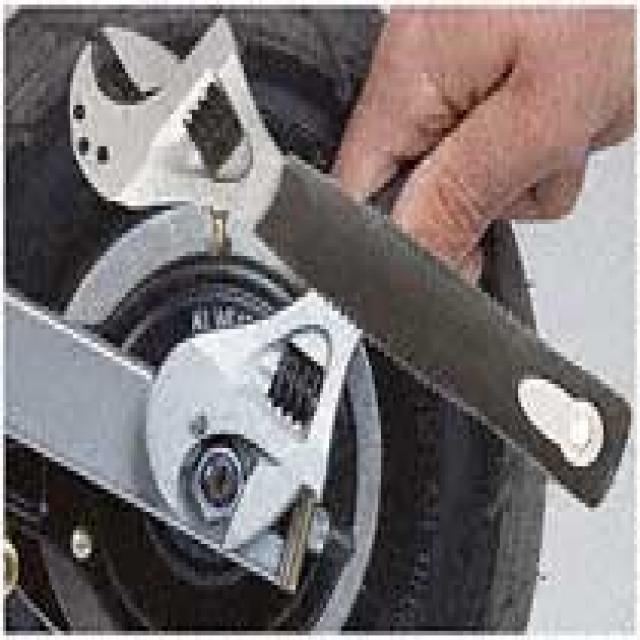wrench: (59, 10, 611, 472), (140, 256, 406, 559)
